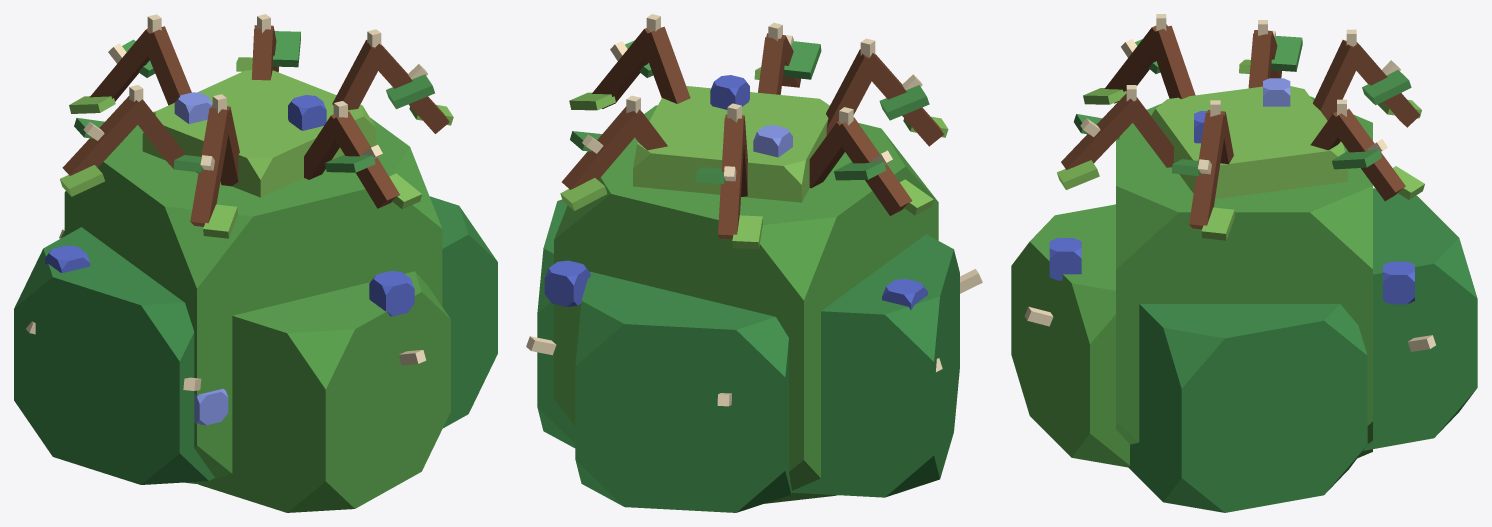
File: thorn-bush-pixor-blocky.glb
3 renders of one model, left to right at view 1: azimuth 30°, elevation 25°; view 2: azimuth 150°, elevation 25°; view 3: azimuth 270°, elevation 25°, orthographic. The views are drawn at different scales.
Visible parts, largest first — view 1: Thorn bush core, Thorn canes, Thorn leaves, Thorn berries, Thorns; view 2: Thorn bush core, Thorn canes, Thorn leaves, Thorn berries, Thorns; view 3: Thorn bush core, Thorn canes, Thorn leaves, Thorn berries, Thorns.
Boxes of the visible parts, x1,y1,x2,y2 form: Thorn bush core: (14,70,497,512); Thorn canes: (62,25,449,226); Thorn leaves: (60,31,453,238); Thorn berries: (45,92,414,425); Thorns: (26,14,427,390); Thorn bush core: (537,86,959,512); Thorn canes: (562,26,943,238); Thorn leaves: (560,40,948,249); Thorn berries: (544,75,927,310); Thorns: (526,14,982,406); Thorn bush core: (1011,86,1477,512); Thorn canes: (1061,24,1420,229); Thorn leaves: (1057,36,1424,240); Thorn berries: (1049,78,1414,304); Thorns: (1024,14,1435,351).
Bounding box in the file's own units: 1.04 × 0.885 × 1.02.
Materials: 1 (1 with a texture image).
